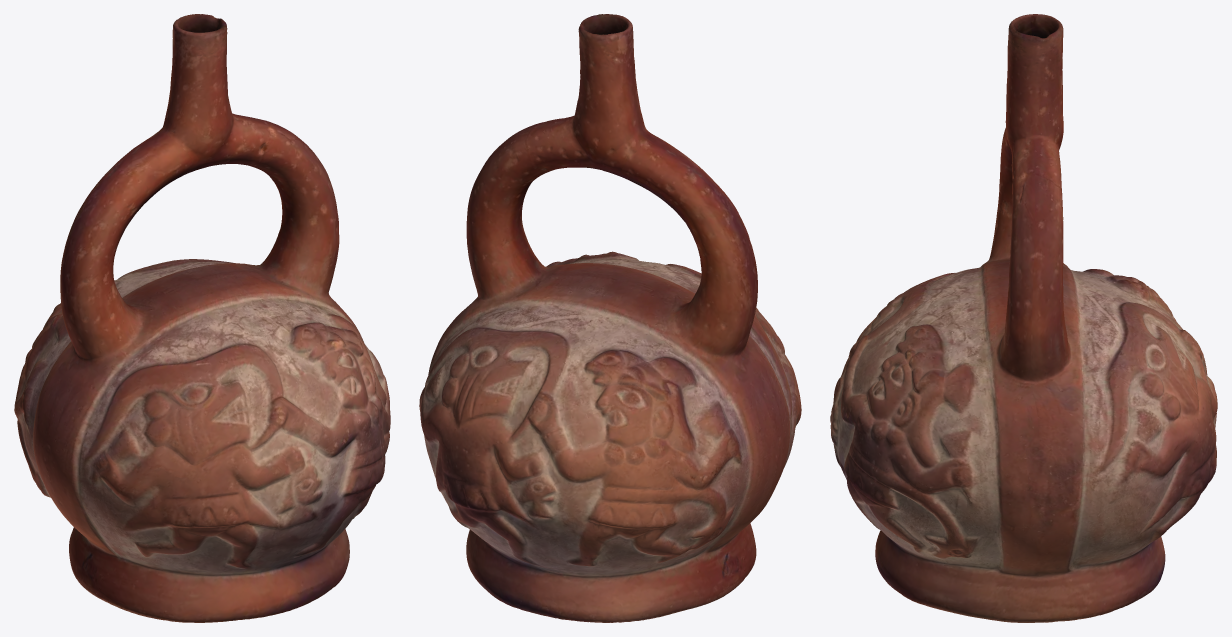
File: preview.glb
3 renders of one model, left to right at view 1: azimuth 30°, elevation 25°; view 2: azimuth 150°, elevation 25°; view 3: azimuth 270°, elevation 25°, orthographic.
Visible parts, largest first — view 1: Object_2; view 2: Object_2; view 3: Object_2.
Boxes of the visible parts, x1=… form: Object_2: x1=14, y1=14, x2=390, y2=622; Object_2: x1=419, y1=14, x2=801, y2=622; Object_2: x1=830, y1=14, x2=1217, y2=622.
Size of the model in its own units: 146 by 234 by 150.
Materials: 1 (1 with a texture image).
